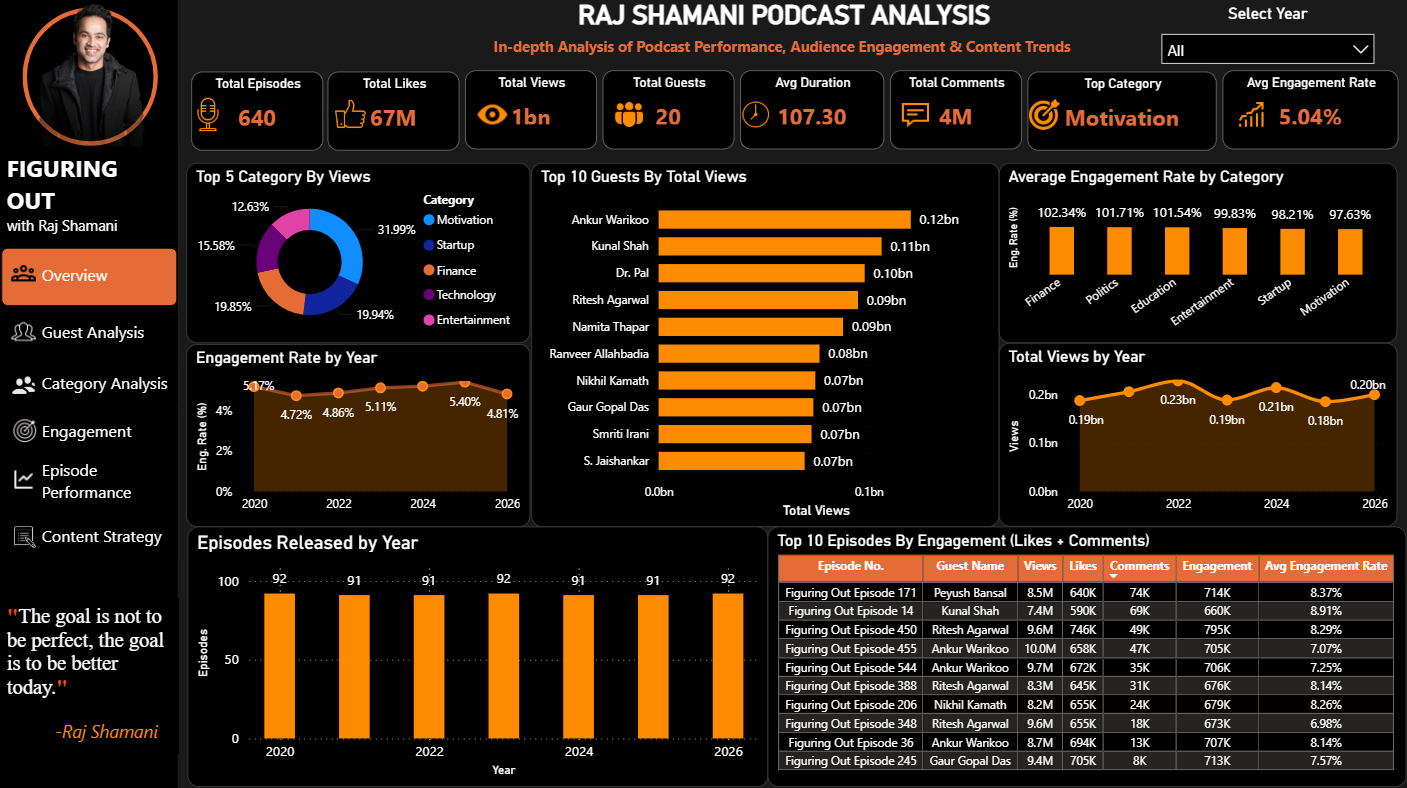

The page's visual inventory and layout, read from the dashboard file:
{"tool":"powerbi","page":{"name":"Raj Shamani Podcast Analysis","canvas":[1280,720],"ordinal":0},"visuals":[{"type":"clusteredBarChart","title":"Top 10 Guests By Total Views ","fields":{"Category":["public podcast_analysis.guest_name"],"Y":["public podcast_analysis.Total Views"]},"box":[482.6,148.8,425.6,331.4],"z":0},{"type":"areaChart","fields":{"Category":["public podcast_analysis.release_date.Variation.Date Hierarchy.Year"],"Y":["public podcast_analysis.Total Views"]},"box":[908.1,312.8,362.8,167.4],"z":1000},{"type":"columnChart","title":"Episodes Released by Year","fields":{"Y":["public podcast_analysis.Total Epiosodes"],"Category":["public podcast_analysis.release_date.Variation.Date Hierarchy.Year"]},"box":[170,480,527.8,236.7],"z":2000},{"type":"textbox","title":"RAJ SHAMANI PODCAST ANALYSIS ","box":[162.5,0,1100.9,60.1],"z":3000},{"type":"slicer","title":"Select Year","fields":{"Values":["public podcast_analysis.release_date.Variation.Date Hierarchy.Year"]},"box":[1046,4,214,59],"z":4000},{"type":"cardVisual","title":"Avg Engagement Rate","fields":{"Data":["public podcast_analysis.Avg Engagement Rate"]},"box":[1111,65,160,72],"z":5000},{"type":"cardVisual","title":"Total Comments","fields":{"Data":["public podcast_analysis.Total Comments"]},"box":[809,65,120,72],"z":6000},{"type":"cardVisual","title":"Total Episodes","fields":{"Data":["public podcast_analysis.Total Epiosodes"]},"box":[173.7,65.7,120,72.4],"z":7000},{"type":"cardVisual","title":"Total Guests","fields":{"Data":["public podcast_analysis.Total Guests"]},"box":[548,65,120,72],"z":8000},{"type":"cardVisual","title":"Total Likes","fields":{"Data":["public podcast_analysis.Total Likes"]},"box":[298,65.7,120.2,72.4],"z":9000},{"type":"cardVisual","title":"Total Views","fields":{"Data":["public podcast_analysis.Total Views"]},"box":[423,65,120,72],"z":10000},{"type":"cardVisual","title":"Avg Duration","fields":{"Data":["public podcast_analysis.Average Duration"]},"box":[673,65,131,72],"z":11000},{"type":"image","box":[173.7,90.2,30.1,30.1],"z":12000},{"type":"image","box":[303.9,90.2,30.1,30.1],"z":13000},{"type":"image","box":[434.1,90.2,27,30.1],"z":14000},{"type":"image","box":[556.6,90.2,30.1,30.1],"z":15000},{"type":"image","box":[673.5,90.2,26,30.1],"z":16000},{"type":"image","box":[817.1,90.2,30.1,30.1],"z":17000},{"type":"donutChart","title":"Top 5 Category By Views","fields":{"Category":["public podcast_analysis.category"],"Y":["Sum(public podcast_analysis.views)"]},"box":[169.8,148.8,312.8,164],"z":18000},{"type":"columnChart","title":"Average Engagement Rate by Category","fields":{"Category":["public podcast_analysis.category"],"Y":["public podcast_analysis.Avg Engagement Rate"]},"box":[908.1,148.8,362.8,164],"z":19000},{"type":"areaChart","title":"Engagement Rate by Year","fields":{"Y":["public podcast_analysis.Avg Engagement Rate"],"Category":["public podcast_analysis.release_date.Variation.Date Hierarchy.Year"]},"box":[169.8,314,312.8,166.3],"z":20000},{"type":"tableEx","title":"Top 10 Episodes By Engagement (Likes + Comments)","fields":{"Values":["public podcast_analysis.episode_title","public podcast_analysis.guest_name","public podcast_analysis.views","public podcast_analysis.likes","public podcast_analysis.comments","public podcast_analysis.Total Engagement","public podcast_analysis.Avg Engagement Rate"]},"box":[698,479.8,581.1,237.1],"z":21000},{"type":"cardVisual","title":"Top Category","fields":{"Data":["public podcast_analysis.Top Category"]},"box":[934,65.7,172,72],"z":22000},{"type":"textbox","box":[0,0,161.7,720.2],"z":23000},{"type":"shape","box":[20.5,8.4,123.1,125.5],"z":24000},{"type":"image","box":[0,0,162.5,156.8],"z":25000},{"type":"textbox","box":[1.2,133.8,160,87.5],"z":26000},{"type":"shape","box":[1,226,160,53],"z":27000},{"type":"textbox","box":[32.9,235.7,95.7,42.9],"z":28000},{"type":"textbox","box":[32.5,287.5,128.8,36.2],"z":29000},{"type":"textbox","box":[32.9,334.3,128.6,34.3],"z":30000},{"type":"textbox","box":[32.5,377.5,128.8,35],"z":31000},{"type":"textbox","box":[32.5,412.5,128.8,60],"z":32000},{"type":"textbox","box":[32.5,472.5,128.8,37.5],"z":33000},{"type":"textbox","box":[1.2,545,161.2,140],"z":34000},{"type":"image","box":[1123.2,90.2,30.1,30.1],"z":35000},{"type":"image","box":[934,90.2,30.1,30.1],"z":36000},{"type":"image","box":[10,234.4,22.2,30],"z":37000},{"type":"image","box":[10,287.8,22.2,30],"z":38000},{"type":"image","box":[10,472.2,22.2,30],"z":39000},{"type":"image","box":[10,421.1,22.2,30],"z":40000},{"type":"image","box":[11.4,377.3,22,30.7],"z":41000},{"type":"image","box":[10,336.7,22.2,30],"z":42000}]}

Visuals, with their boxes in screenshot pixels (x1, y1, x2, y2), scaled from the page's 1280x720 canvas onto the 1407x788 screenshot:
"Top 10 Guests By Total Views " clusteredBarChart: detection(530, 163, 998, 526)
areaChart - public podcast_analysis.release_date.Variation.Date Hierarchy.Year x public podcast_analysis.Total Views: detection(998, 342, 1397, 526)
"Episodes Released by Year" columnChart: detection(187, 525, 767, 784)
"RAJ SHAMANI PODCAST ANALYSIS " textbox: detection(179, 0, 1389, 66)
"Select Year" slicer: detection(1150, 4, 1385, 69)
"Avg Engagement Rate" cardVisual: detection(1221, 71, 1397, 150)
"Total Comments" cardVisual: detection(889, 71, 1021, 150)
"Total Episodes" cardVisual: detection(191, 72, 323, 151)
"Total Guests" cardVisual: detection(602, 71, 734, 150)
"Total Likes" cardVisual: detection(328, 72, 460, 151)
"Total Views" cardVisual: detection(465, 71, 597, 150)
"Avg Duration" cardVisual: detection(740, 71, 884, 150)
image: detection(191, 99, 224, 132)
image: detection(334, 99, 367, 132)
image: detection(477, 99, 507, 132)
image: detection(612, 99, 645, 132)
image: detection(740, 99, 769, 132)
image: detection(898, 99, 931, 132)
"Top 5 Category By Views" donutChart: detection(187, 163, 530, 342)
"Average Engagement Rate by Category" columnChart: detection(998, 163, 1397, 342)
"Engagement Rate by Year" areaChart: detection(187, 344, 530, 526)
"Top 10 Episodes By Engagement (Likes + Comments)" tableEx: detection(767, 525, 1406, 785)
"Top Category" cardVisual: detection(1027, 72, 1216, 151)
textbox: detection(0, 0, 178, 787)
shape: detection(23, 9, 158, 147)
image: detection(0, 0, 179, 172)
textbox: detection(1, 146, 177, 242)
shape: detection(1, 247, 177, 305)
textbox: detection(36, 258, 141, 305)
textbox: detection(36, 315, 177, 354)
textbox: detection(36, 366, 178, 403)
textbox: detection(36, 413, 177, 451)
textbox: detection(36, 451, 177, 517)
textbox: detection(36, 517, 177, 558)
textbox: detection(1, 596, 179, 750)
image: detection(1235, 99, 1268, 132)
image: detection(1027, 99, 1060, 132)
image: detection(11, 257, 35, 289)
image: detection(11, 315, 35, 348)
image: detection(11, 517, 35, 550)
image: detection(11, 461, 35, 494)
image: detection(13, 413, 37, 447)
image: detection(11, 368, 35, 401)
